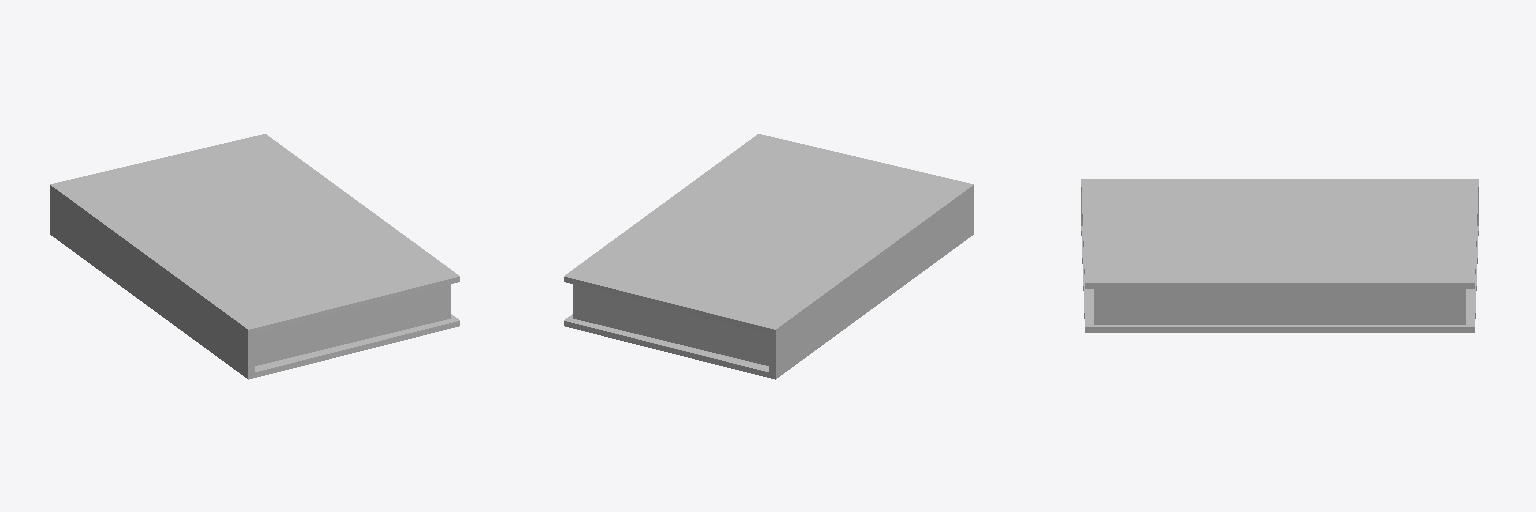
Rendered from BookStyle1.obj.
The picture shows the model from 3 angles: view 1: azimuth 30°, elevation 25°; view 2: azimuth 150°, elevation 25°; view 3: azimuth 270°, elevation 25°; orthographic projection.
Parts seen in each view (by area): view 1: Plane, Plane.001; view 2: Plane, Plane.001; view 3: Plane, Plane.001.
Part boxes in pixels (x1,y1,x2,y2): Plane: (50,134,459,379); Plane.001: (255,284,450,365); Plane: (564,134,973,379); Plane.001: (573,284,768,365); Plane: (1081,179,1478,332); Plane.001: (1094,289,1465,324).
Size of the model in its own units: 1.97 by 0.4382 by 3.17.